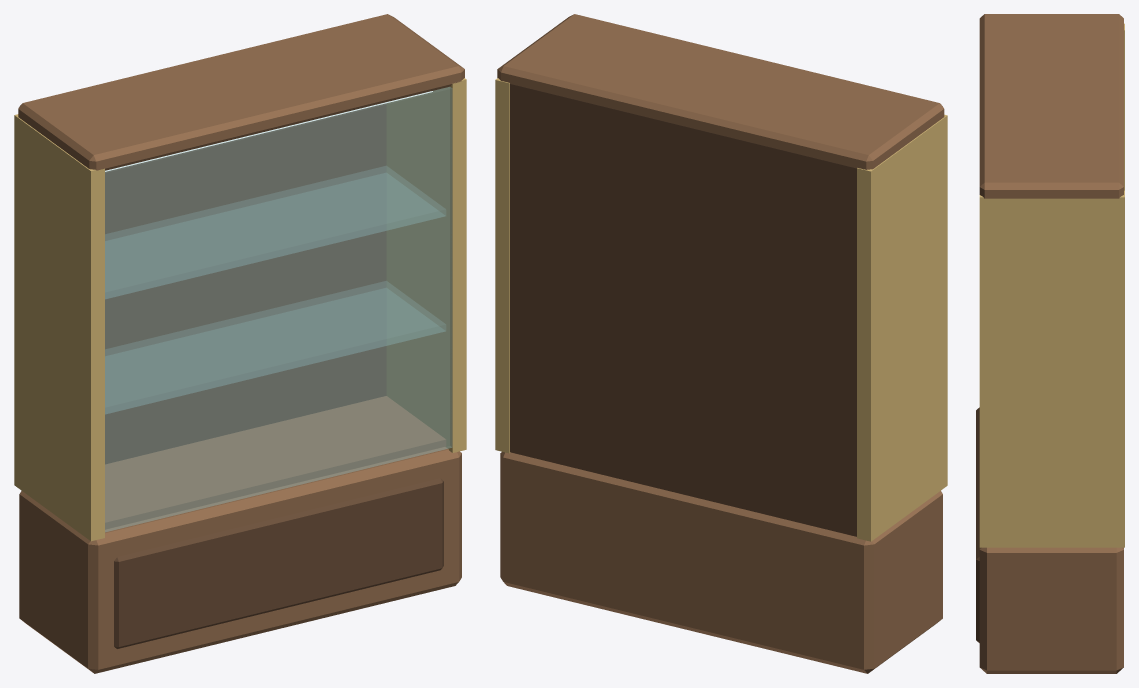
The model's file is hm_trophy.glb.
3 renders of one model, left to right at view 1: azimuth 30°, elevation 25°; view 2: azimuth 150°, elevation 25°; view 3: azimuth 270°, elevation 25°, orthographic. The views are drawn at different scales.
Visible parts, largest first — view 1: hm_trophy; view 2: hm_trophy; view 3: hm_trophy.
Part boxes in pixels (bbox=[...]): hm_trophy: bbox=[14, 14, 466, 673]; hm_trophy: bbox=[495, 14, 947, 673]; hm_trophy: bbox=[976, 14, 1124, 673].
Bounding box in the file's own units: 1.71 × 2.26 × 0.619.
